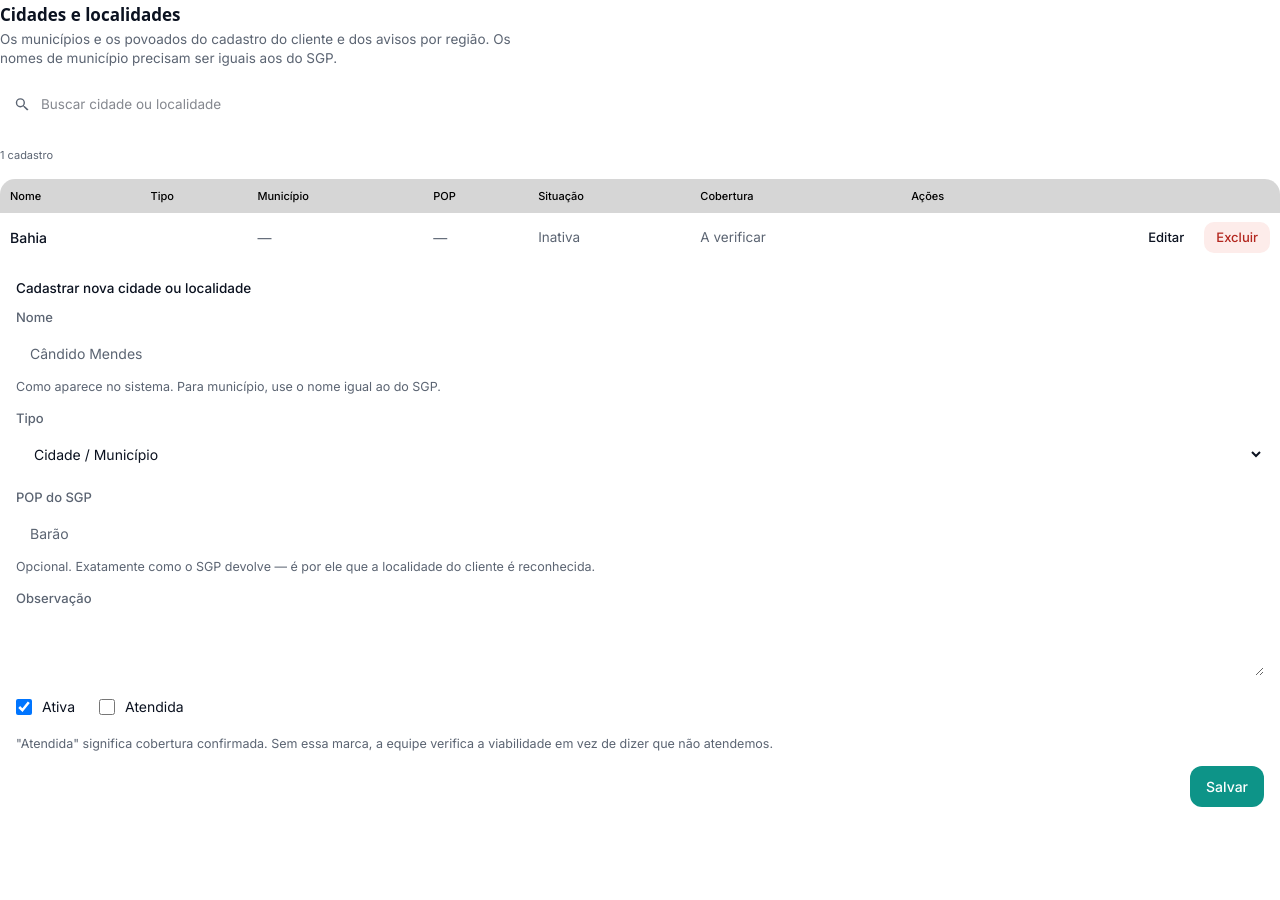
CitiesAdminTab › shows an error message when deleting fails
Click the button "Excluir" at point(1237, 237), box [1204,222,1270,253]
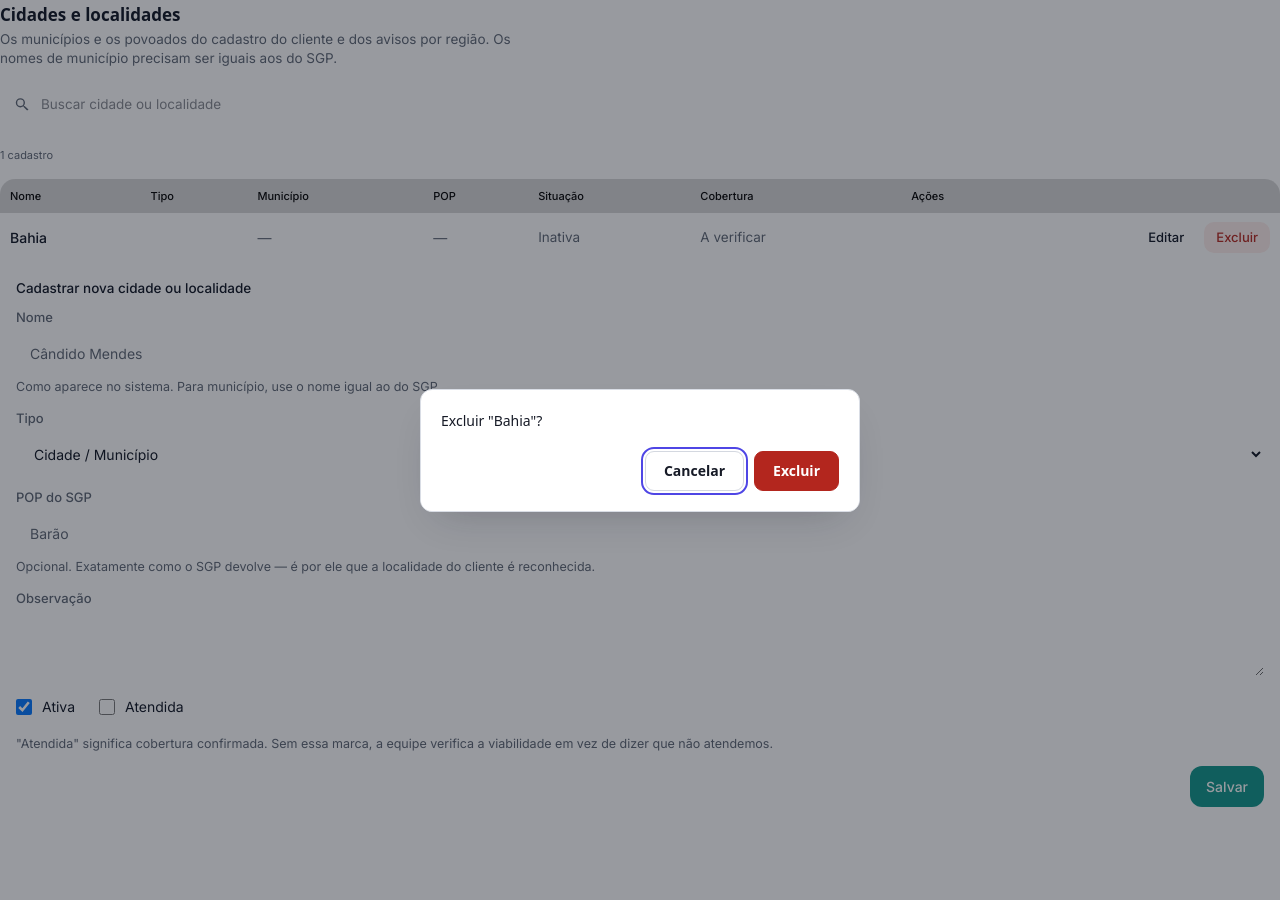
Click the button "Excluir" at point(796, 470), box [754,450,839,490]
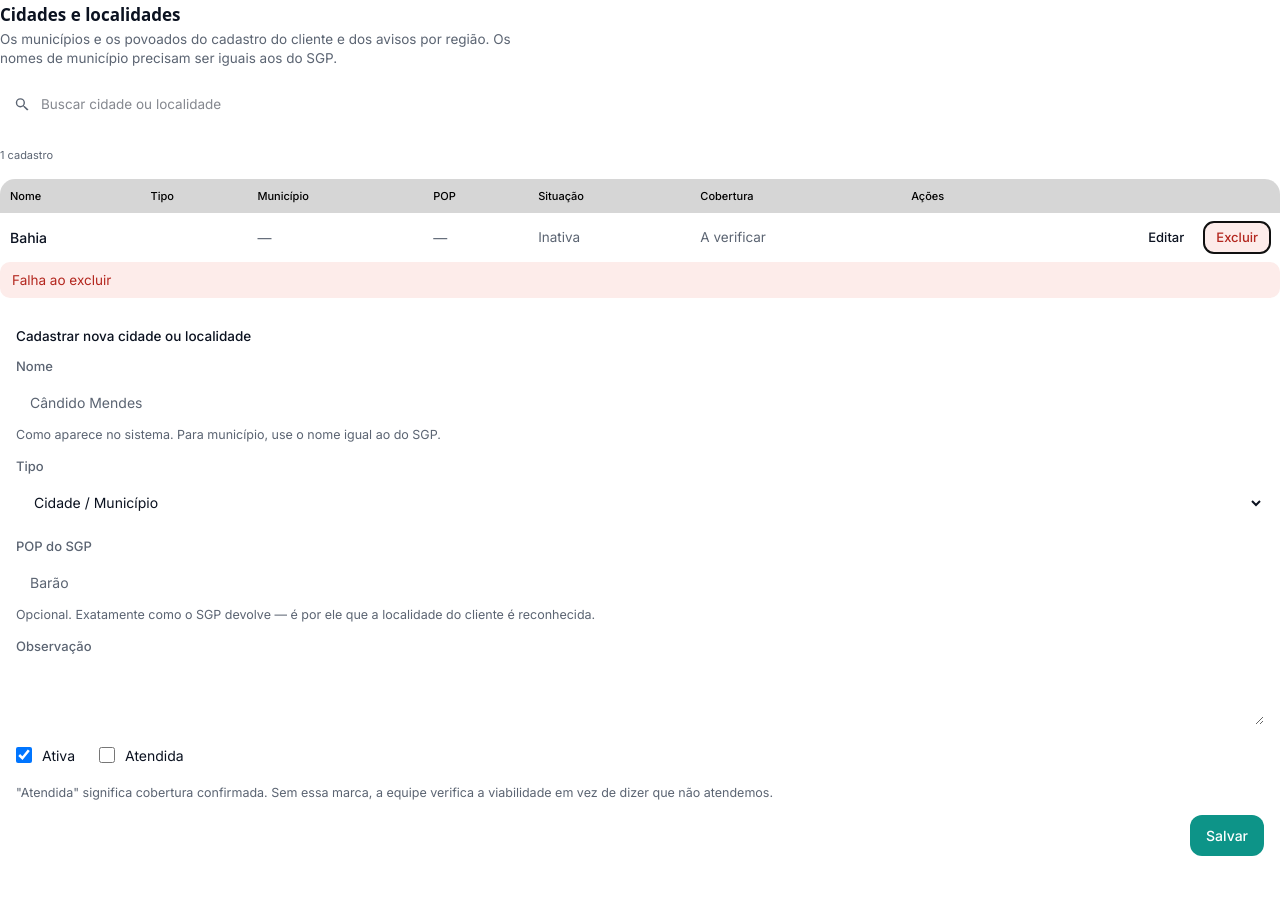
Expected: the text "Falha ao excluir" is shown, [0,262,1279,298]
